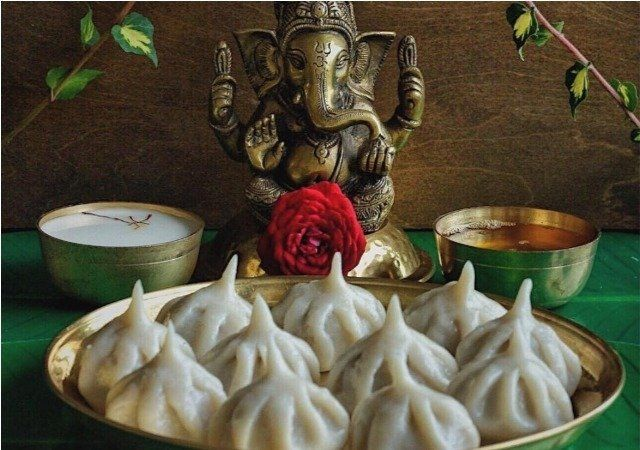modak: (329, 297, 487, 408), (437, 318, 573, 437), (271, 262, 397, 373), (464, 286, 604, 385), (114, 329, 228, 436), (211, 351, 329, 450), (352, 360, 463, 450), (82, 281, 176, 385)
